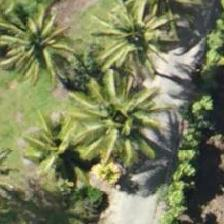coconut_tree: (65, 69, 155, 159), (0, 0, 82, 88), (92, 0, 182, 75)
